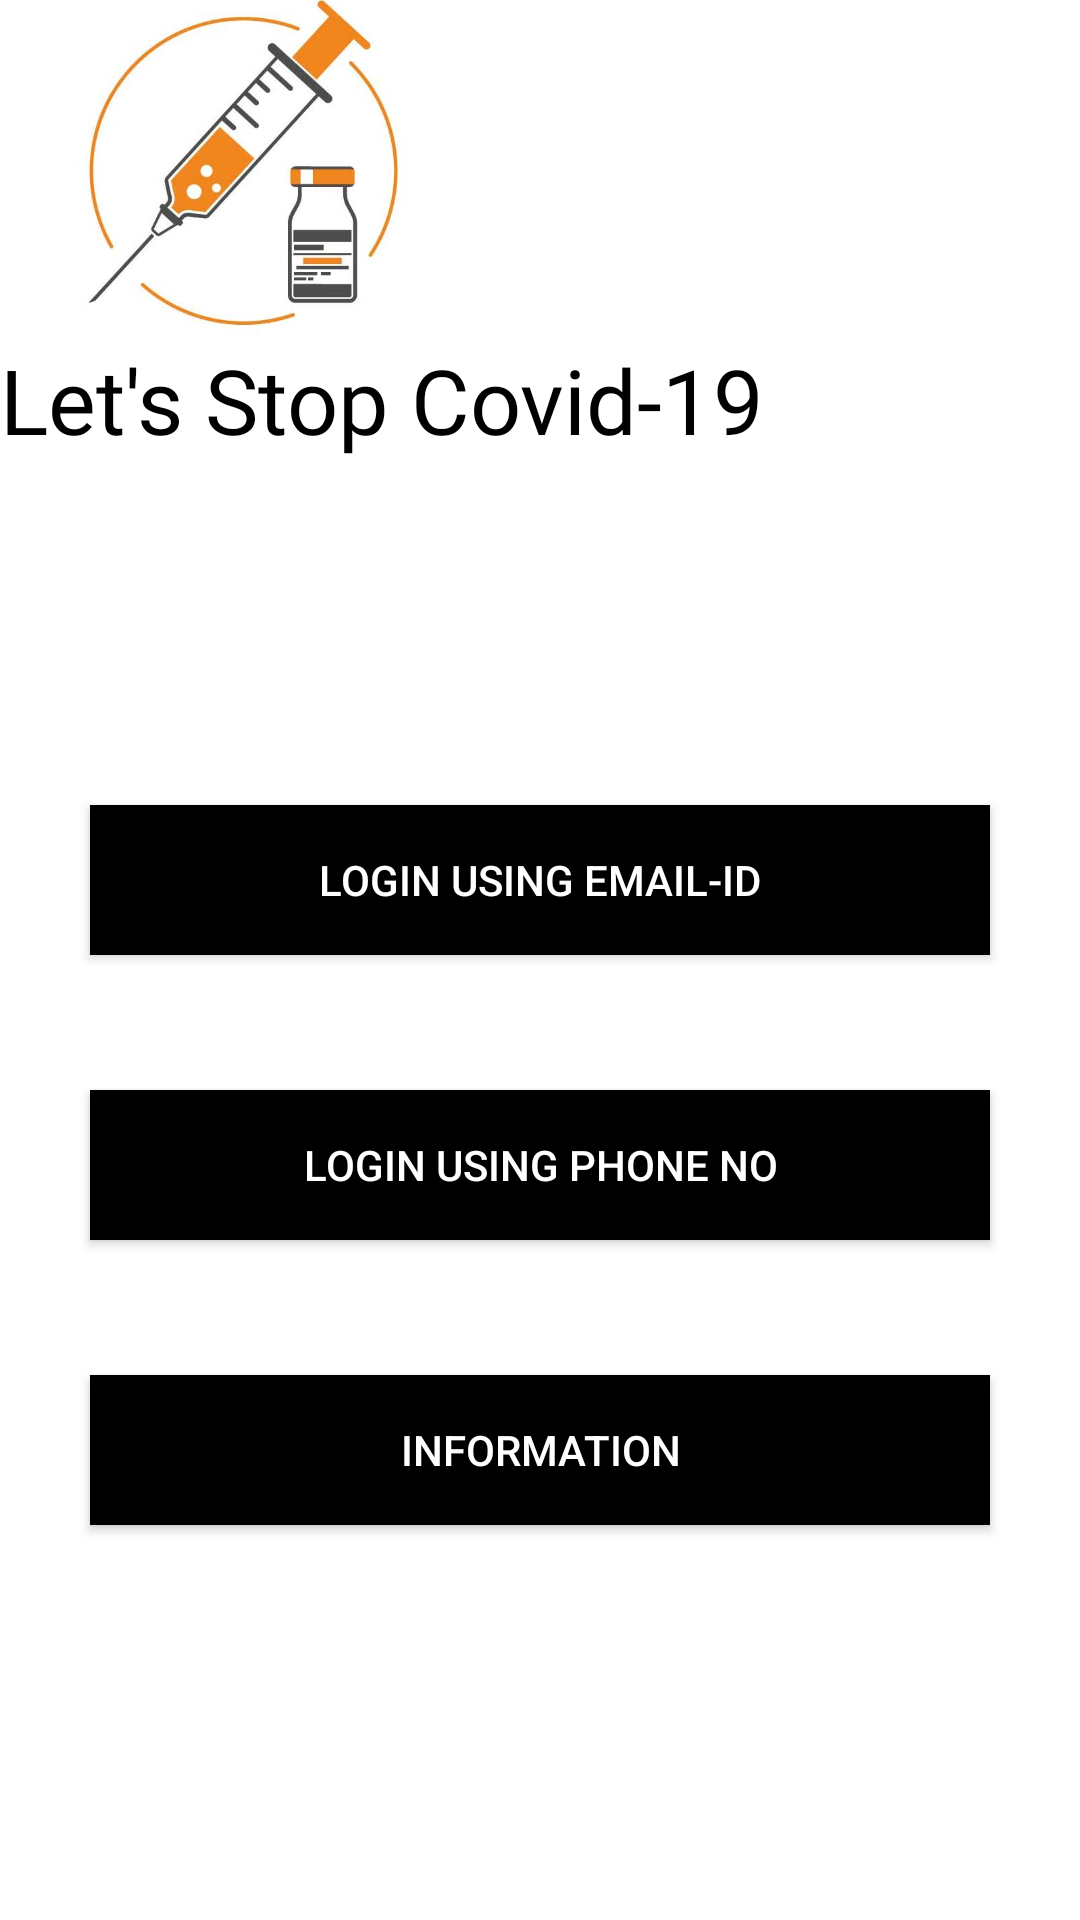

Where to tap for icons on this 1080x1920 app screen, as (x=x, y=y):
vacbacrop: (x=244, y=163)
